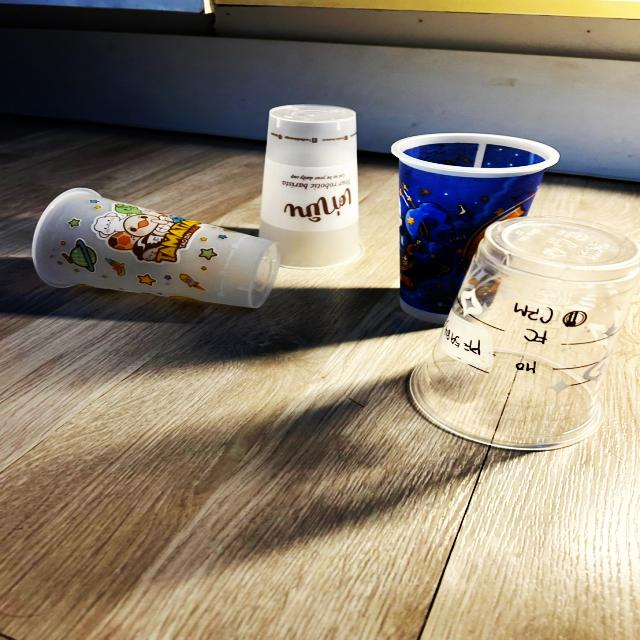Plastic Cup: (408, 218, 639, 452), (392, 133, 559, 325), (32, 188, 278, 308), (260, 105, 360, 269)
